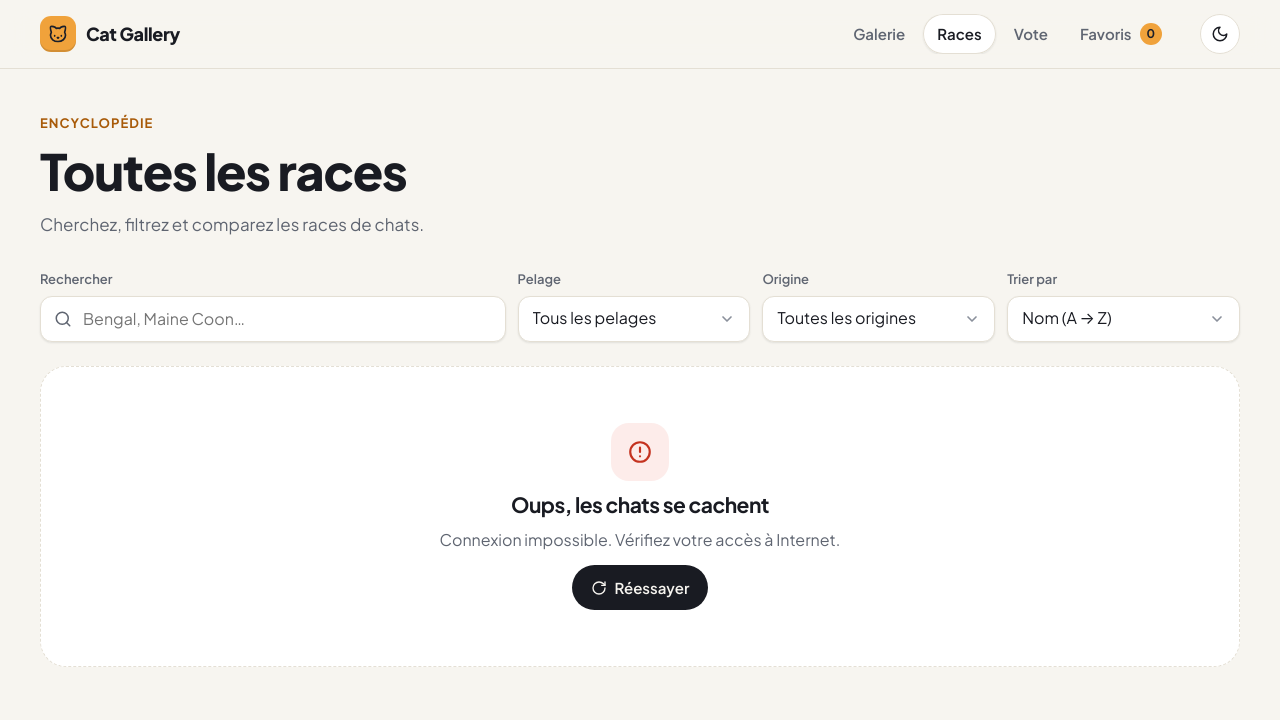
Test: breeds › lets the user retry when breeds fail to load
Expected: the text "Connexion impossible. Vérifiez votre accès à Internet." is shown, [440,528,840,553]
Click the button "Réessayer" at (640, 588), box [572,565,708,610]
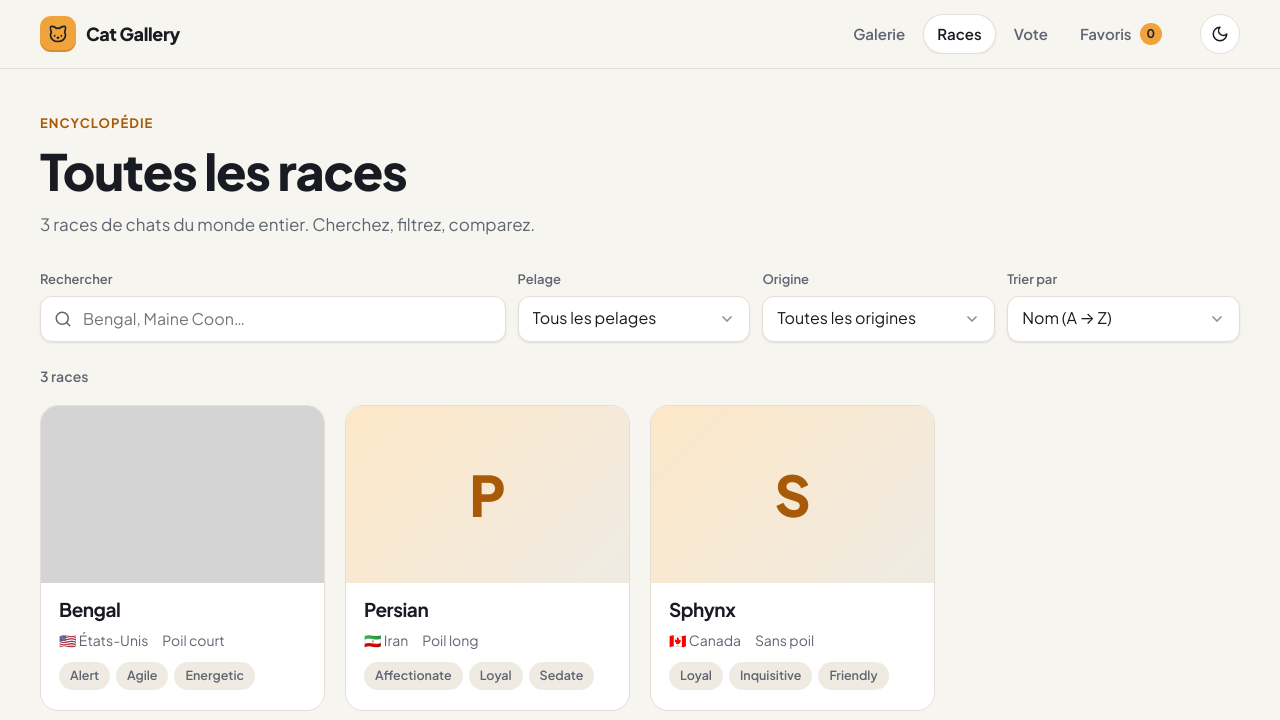
Now the text "3 races" is shown, box [40,367,88,385]
